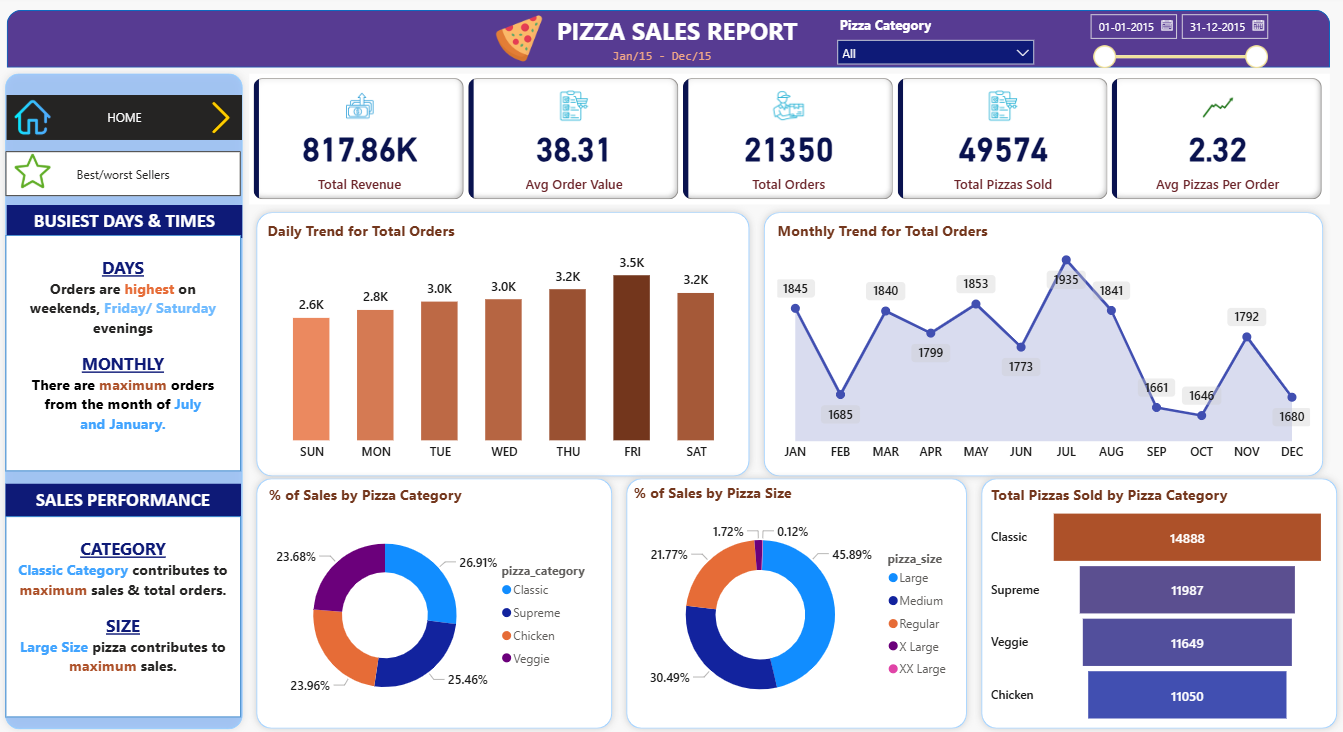

What the dashboard file says about the page in this screenshot:
{"tool":"powerbi","page":{"name":"HOME","canvas":[1500,820],"ordinal":0},"visuals":[{"type":"shape","box":[10,11.4,1474.3,64.3],"z":0},{"type":"shape","box":[0,73.7,280.5,746.6],"z":1000},{"type":"cardVisual","fields":{"Data":["pizza_sales.Total Revenue","pizza_sales.Avg Order Value","pizza_sales.Total Orders","pizza_sales.Total Pizzas Sold","pizza_sales.Avg Pizzas Per Order"]},"box":[280.5,82.2,1204.2,145.9],"z":2000},{"type":"textbox","box":[613.4,11.3,287.6,52.4],"z":3000},{"type":"textbox","box":[674.4,46.8,131.8,35.4],"z":4000},{"type":"image","box":[546.9,11.3,66.6,63.8],"z":5000},{"type":"shape","box":[280.5,228.1,565.3,310.3],"z":6000},{"type":"columnChart","title":"Daily Trend for Total Orders","fields":{"Category":["pizza_sales.Order Day"],"Y":["pizza_sales.Total Orders"]},"box":[294.7,245.1,538.4,277.7],"z":7000},{"type":"shape","box":[845.8,228.1,639,310.3],"z":8000},{"type":"areaChart","title":"Monthly Trend for Total Orders","fields":{"Category":["pizza_sales.Order Month"],"Y":["pizza_sales.Total Orders"]},"box":[862.8,245.1,603.5,277.7],"z":9000},{"type":"shape","box":[280.5,525.6,412.3,294.7],"z":10000},{"type":"shape","box":[692.8,525.6,395.3,294.7],"z":11000},{"type":"shape","box":[1088,525.6,412.3,294.7],"z":12000},{"type":"donutChart","title":"% of Sales by Pizza Category","fields":{"Category":["pizza_sales.pizza_category"],"Y":["pizza_sales.Total Revenue"]},"box":[296.1,538.4,378.3,272],"z":13000},{"type":"donutChart","title":"% of Sales by Pizza Size","fields":{"Y":["pizza_sales.Total Revenue"],"Category":["pizza_sales.pizza_size"]},"box":[702.7,536.9,372.6,273.4],"z":14000},{"type":"funnel","title":"Total Pizzas Sold by Pizza Category","fields":{"Category":["pizza_sales.pizza_category"],"Y":["pizza_sales.Total Pizzas Sold"]},"box":[1102.2,538.4,382.5,272],"z":15000},{"type":"textbox","box":[9.9,228.1,262.1,36.8],"z":16000},{"type":"textbox","box":[8.5,262.1,262.1,263.5],"z":17000},{"type":"textbox","box":[8.5,538.4,262.1,36.8],"z":18000},{"type":"textbox","box":[8.5,575.2,262.1,223.8],"z":19000},{"type":"slicer","fields":{"Values":["pizza_sales.pizza_category"]},"box":[925.1,12.8,239.4,62.3],"z":20000},{"type":"slicer","fields":{"Values":["pizza_sales.order_date"]},"box":[1205,6.2,218.8,75],"z":21000},{"type":"pageNavigator","box":[10,105.7,262.9,50],"z":22000},{"type":"pageNavigator","box":[8.6,168.6,262.9,50],"z":23000},{"type":"image","box":[225.7,105.7,45.7,50],"z":24000},{"type":"image","box":[10,105.7,57.1,50],"z":25000},{"type":"image","box":[10,165.7,57.1,50],"z":26000}]}

Visuals, with their boxes in screenshot pixels (x1, y1, x2, y2), scaled from the page's 1500x820 canvas onto the 1343x732 screenshot:
shape: bbox=(9, 10, 1329, 68)
shape: bbox=(0, 66, 251, 731)
cardVisual - pizza_sales.Total Revenue x pizza_sales.Avg Order Value: bbox=(251, 73, 1329, 204)
textbox: bbox=(549, 10, 807, 57)
textbox: bbox=(604, 42, 722, 73)
image: bbox=(490, 10, 549, 67)
shape: bbox=(251, 204, 757, 481)
"Daily Trend for Total Orders" columnChart: bbox=(264, 219, 746, 467)
shape: bbox=(757, 204, 1329, 481)
"Monthly Trend for Total Orders" areaChart: bbox=(772, 219, 1313, 467)
shape: bbox=(251, 469, 620, 731)
shape: bbox=(620, 469, 974, 731)
shape: bbox=(974, 469, 1342, 731)
"% of Sales by Pizza Category" donutChart: bbox=(265, 481, 604, 723)
"% of Sales by Pizza Size" donutChart: bbox=(629, 479, 963, 723)
"Total Pizzas Sold by Pizza Category" funnel: bbox=(987, 481, 1329, 723)
textbox: bbox=(9, 204, 244, 236)
textbox: bbox=(8, 234, 242, 469)
textbox: bbox=(8, 481, 242, 513)
textbox: bbox=(8, 513, 242, 713)
slicer - pizza_sales.pizza_category: bbox=(828, 11, 1043, 67)
slicer - pizza_sales.order_date: bbox=(1079, 6, 1275, 72)
pageNavigator: bbox=(9, 94, 244, 139)
pageNavigator: bbox=(8, 151, 243, 195)
image: bbox=(202, 94, 243, 139)
image: bbox=(9, 94, 60, 139)
image: bbox=(9, 148, 60, 193)
